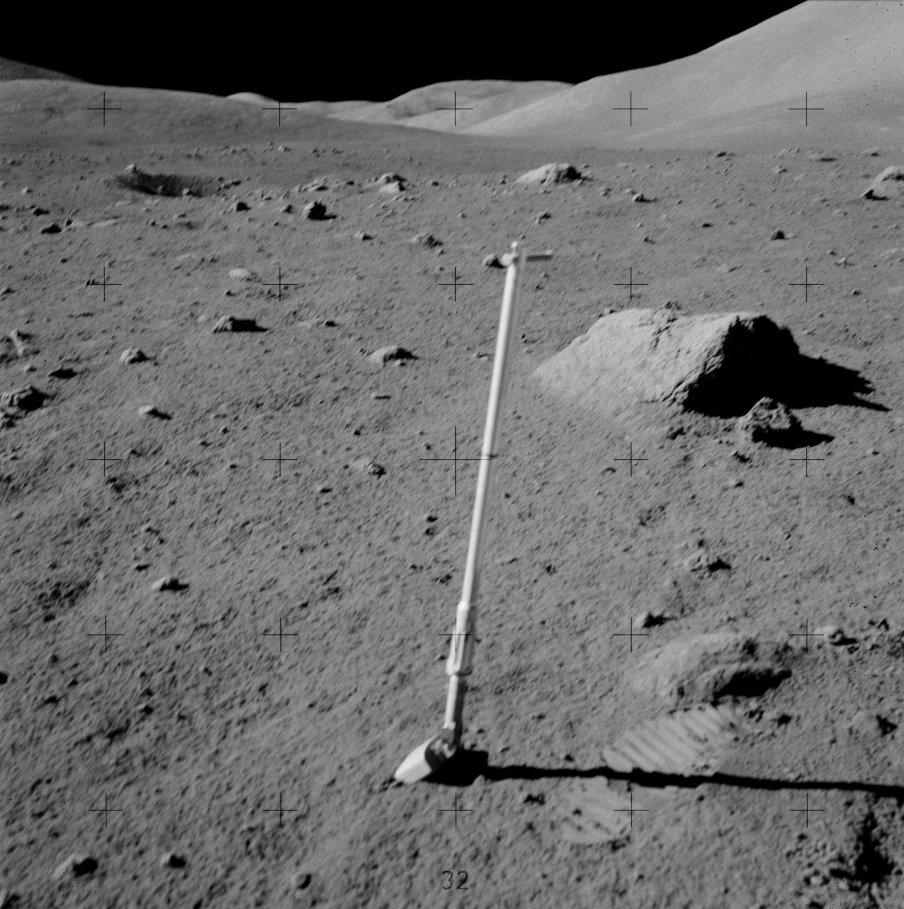rock: (537, 311, 798, 422)
